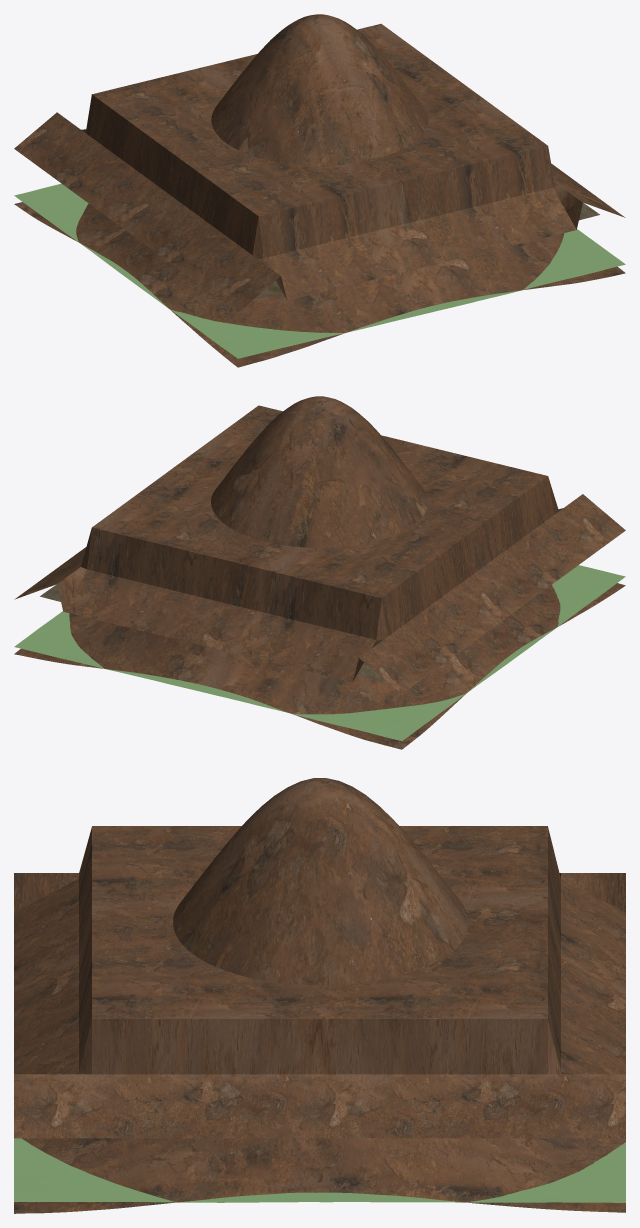
The model's file is landform-types.glb.
The picture shows the model from 3 angles, top to bottom: view 1: azimuth 30°, elevation 25°; view 2: azimuth 150°, elevation 25°; view 3: azimuth 270°, elevation 25°; orthographic projection. The views are drawn at different scales.
Parts seen in each view (by area): view 1: Land_Plateau, Land_Mountain, Land_Plain; view 2: Land_Plateau, Land_Mountain, Land_Plain; view 3: Land_Plateau, Land_Mountain, Land_Plain.
Boxes of the visible parts, left/top/right/bottom form: Land_Plateau: left=14, top=23, right=625, bottom=312; Land_Mountain: left=14, top=14, right=625, bottom=367; Land_Plain: left=14, top=183, right=625, bottom=358; Land_Plateau: left=14, top=405, right=625, bottom=693; Land_Mountain: left=14, top=396, right=625, bottom=749; Land_Plain: left=14, top=565, right=625, bottom=740; Land_Plateau: left=14, top=826, right=625, bottom=1138; Land_Mountain: left=14, top=778, right=625, bottom=1213; Land_Plain: left=14, top=1138, right=625, bottom=1202.
Bounding box in the file's own units: 2.4 × 1.31 × 2.4.
Materials: 4 (3 with a texture image).
